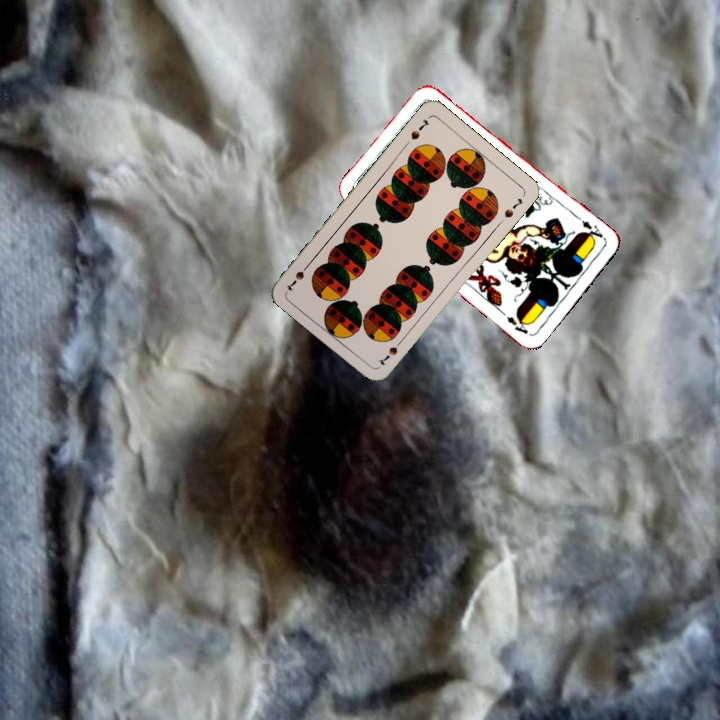EA: (577, 216, 608, 244)
S7: (374, 335, 406, 368), (407, 116, 433, 143)
